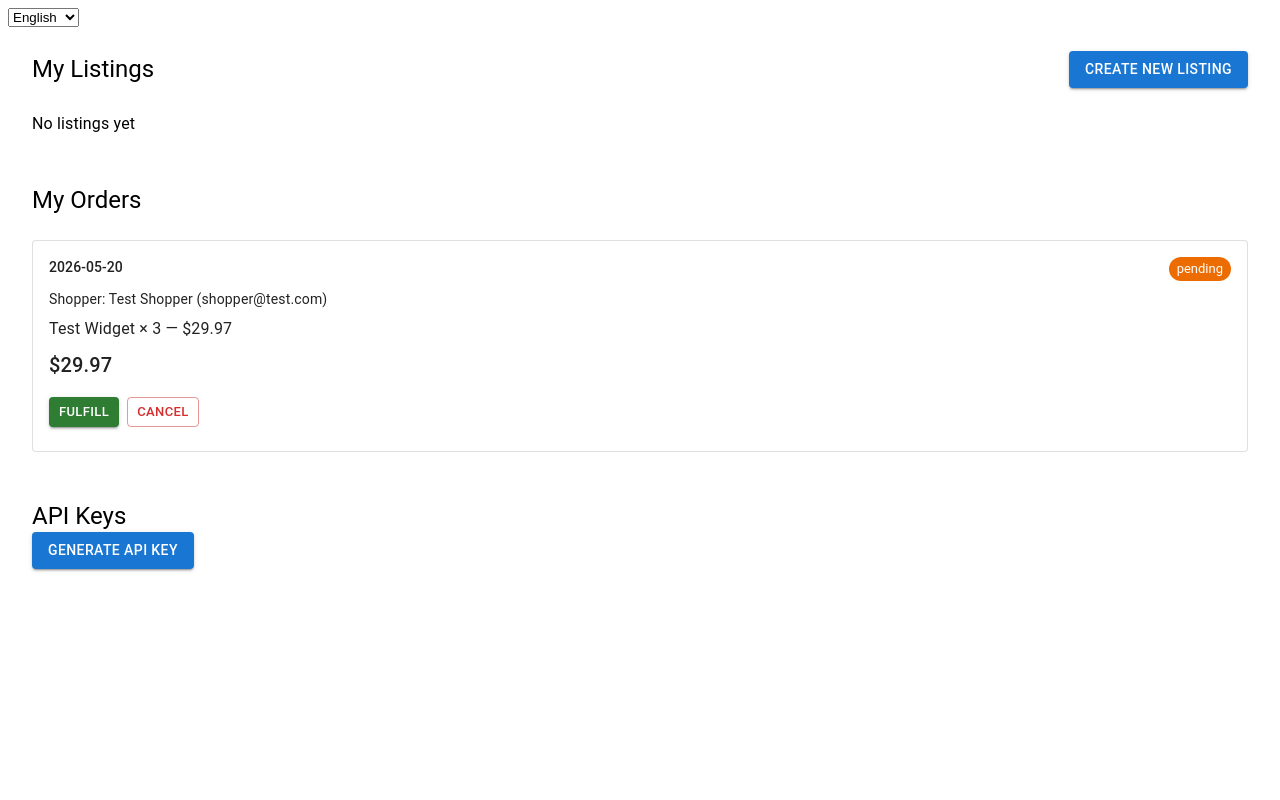
Test case: Dashboard Spanish › No listings yet
Select "Spanish" in the dropdown: (44, 18) [8,8,79,27]
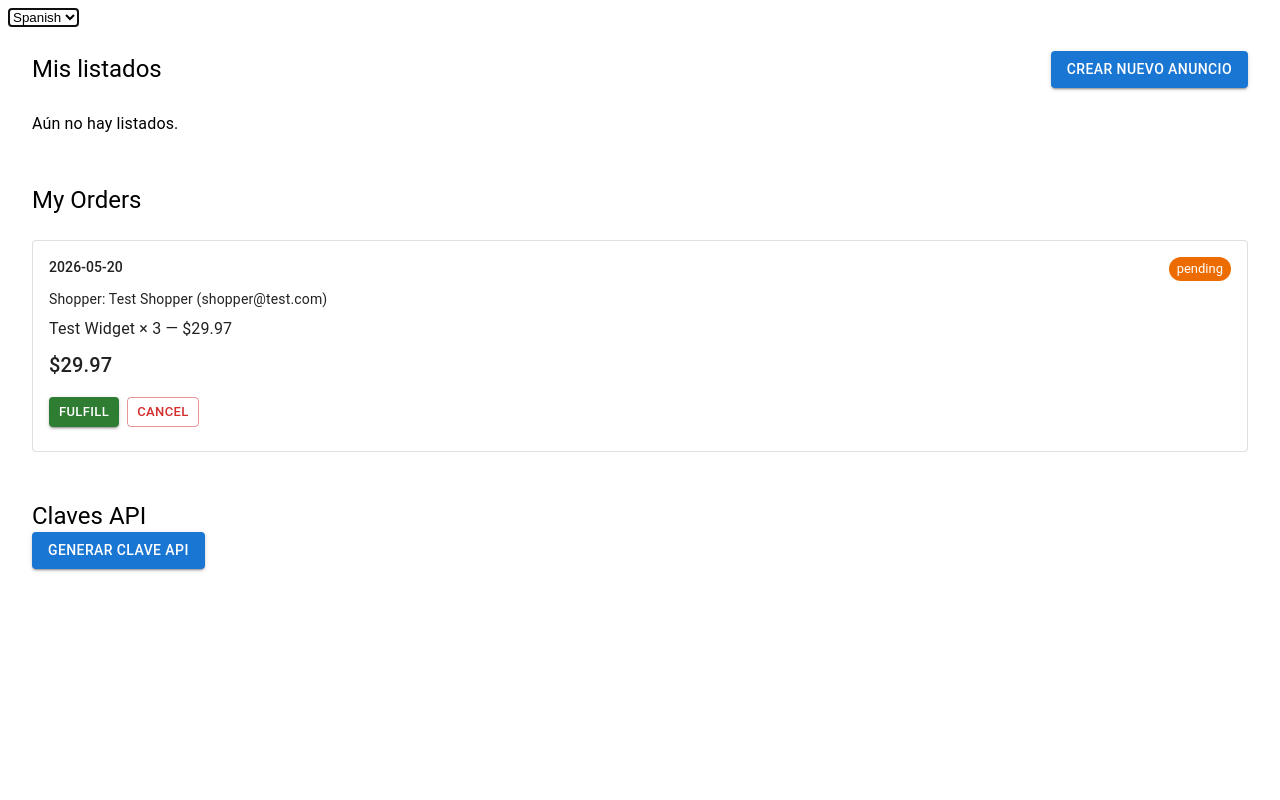
expect the text "Aún no hay listados." is shown: met, box [32,114,178,132]
